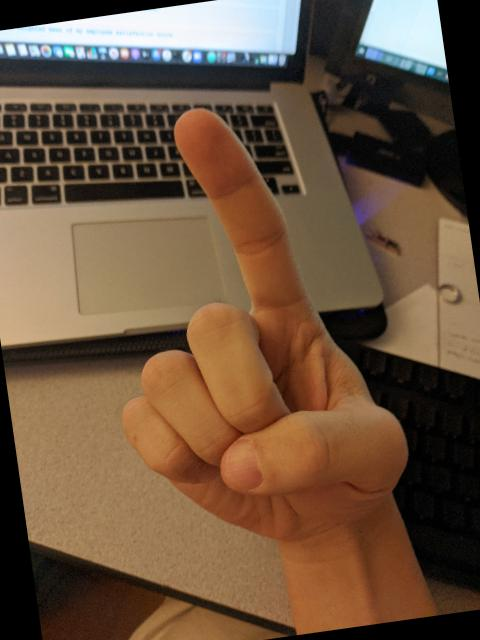D: (74, 79, 430, 572)
